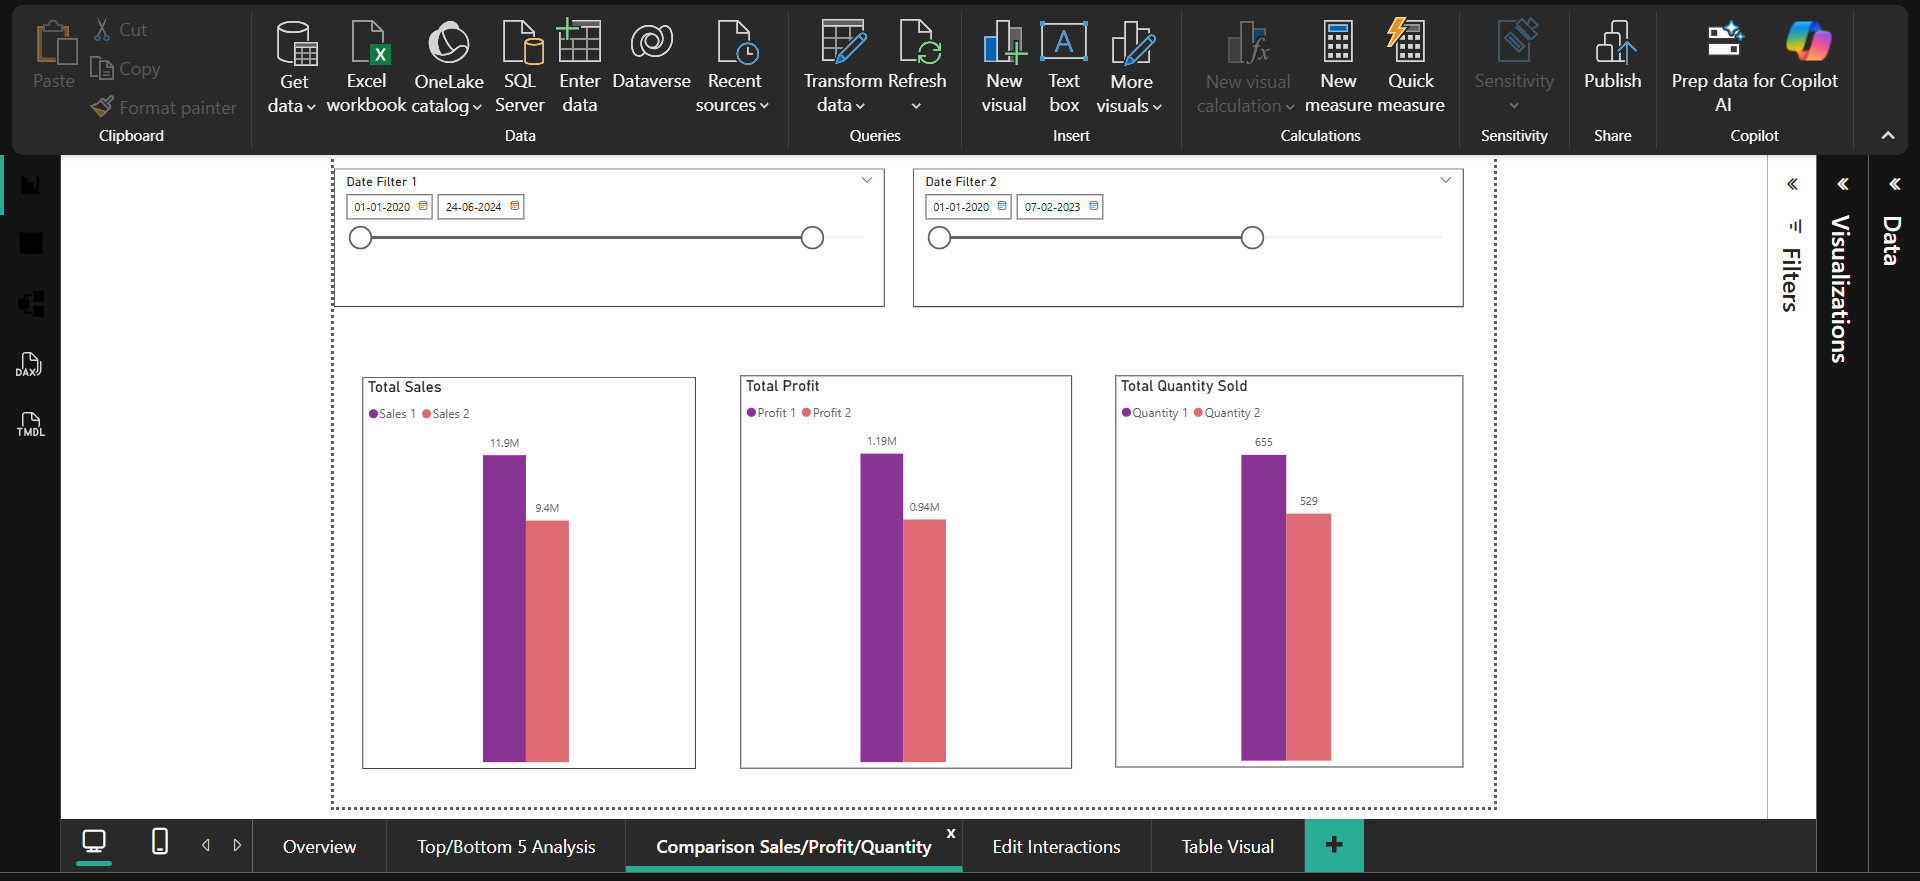

The dashboard page shown, as its layout file describes it:
{"tool":"powerbi","page":{"name":"Comparison Sales/Profit/Quantity","canvas":[1280,720],"ordinal":2},"visuals":[{"type":"slicer","fields":{"Values":["Date Table 1.Date"]},"box":[0,14.9,607.9,152.4],"z":0},{"type":"slicer","fields":{"Values":["Date Table 2.Date"]},"box":[639.4,14.9,607.9,152.4],"z":1000},{"type":"clusteredColumnChart","title":"Total Sales","fields":{"Y":["Sum(Fact Table.Net Sales)","Date Table 1.Sum of Net Sales"]},"box":[31.5,245.2,367.7,432.3],"z":2000},{"type":"clusteredColumnChart","title":"Total Profit","fields":{"Y":["Sum(Fact Table.Profit)","Measures Table.Total Profit"]},"box":[448.9,243.5,366.1,434],"z":3000},{"type":"clusteredColumnChart","title":"Total Quantity Sold","fields":{"Y":["Sum(Fact Table.Units Sold)","Measures Table.Quantity Sold"]},"box":[863,243.5,384.3,432.3],"z":4000}]}

Visuals, with their boxes on the page's 1280x720 design canvas (x1, y1, x2, y2). These are canvas units, not pixel positions in the 1920x881 screenshot, which may show the page scaled, cropped or inside an application window:
slicer - Date Table 1.Date: [0,15,608,167]
slicer - Date Table 2.Date: [639,15,1247,167]
"Total Sales" clusteredColumnChart: [32,245,399,678]
"Total Profit" clusteredColumnChart: [449,244,815,678]
"Total Quantity Sold" clusteredColumnChart: [863,244,1247,676]
